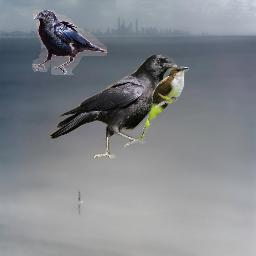Crow: (50, 53, 182, 161), (32, 10, 107, 75)
Cuckoo: (138, 66, 189, 142)
